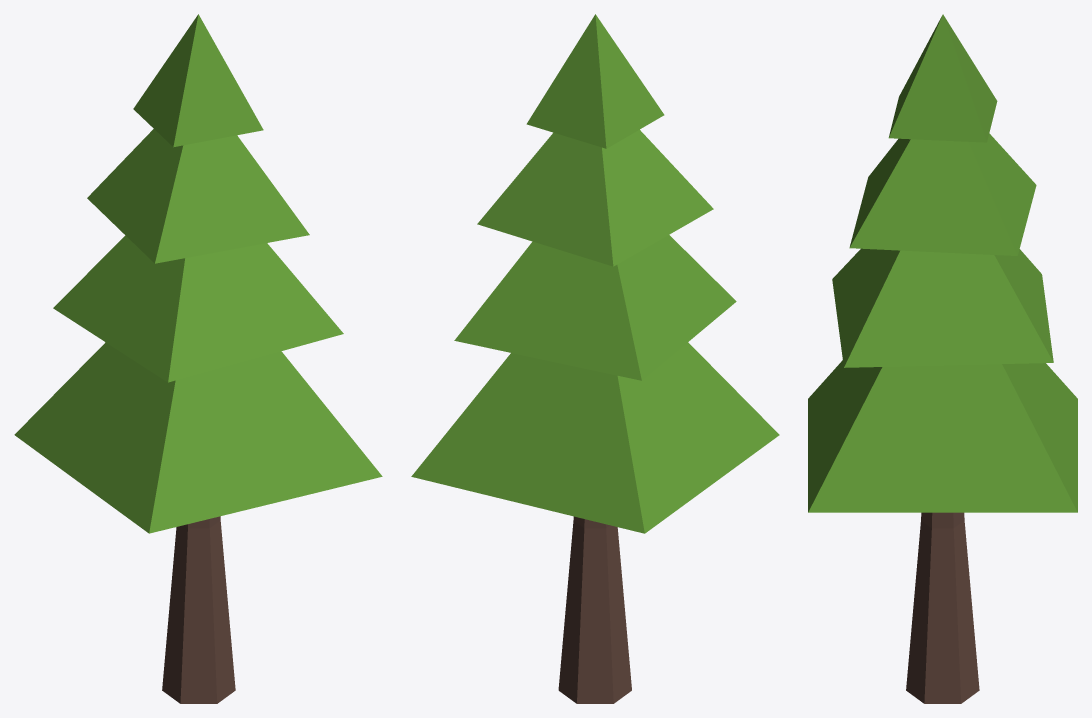
File: SpringTree_02.fbx
3 views of the same model, side by side, from view 1: azimuth 30°, elevation 25°; view 2: azimuth 150°, elevation 25°; view 3: azimuth 270°, elevation 25° (orthographic).
Parts seen in each view (by area): view 1: SpringTree_02; view 2: SpringTree_02; view 3: SpringTree_02.
Part boxes in pixels (box(x1,y1,x2,y2)): SpringTree_02: box(14, 14, 382, 703); SpringTree_02: box(411, 14, 779, 703); SpringTree_02: box(808, 14, 1077, 703).
Size of the model in its own units: 287 by 795 by 287.
